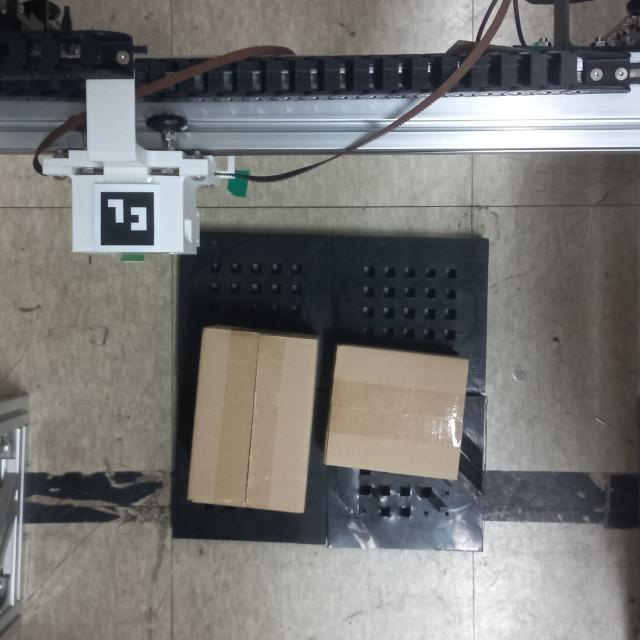box: (181, 318, 322, 518), (323, 340, 473, 484)
